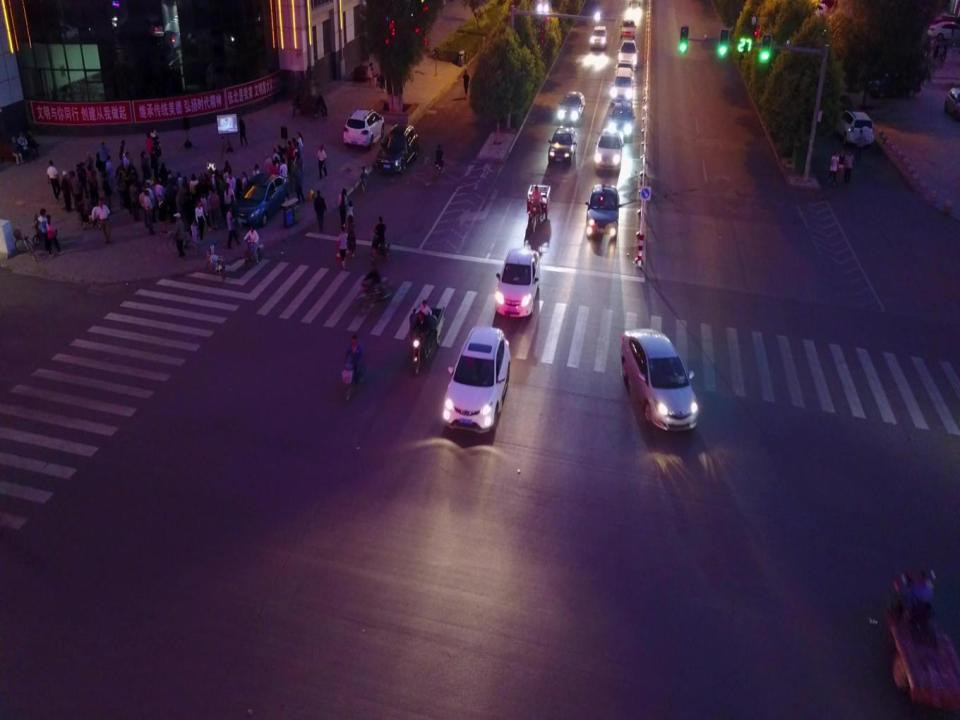car: (618, 329, 698, 433), (440, 323, 512, 437), (494, 246, 542, 316), (232, 171, 290, 224), (376, 122, 420, 172), (585, 186, 621, 240), (342, 108, 386, 147), (594, 125, 622, 174), (548, 126, 576, 165), (558, 88, 586, 124), (609, 100, 632, 136), (612, 64, 633, 102), (927, 21, 960, 40), (618, 38, 636, 66), (590, 24, 606, 47), (620, 18, 639, 37)
van: (834, 108, 875, 147)
